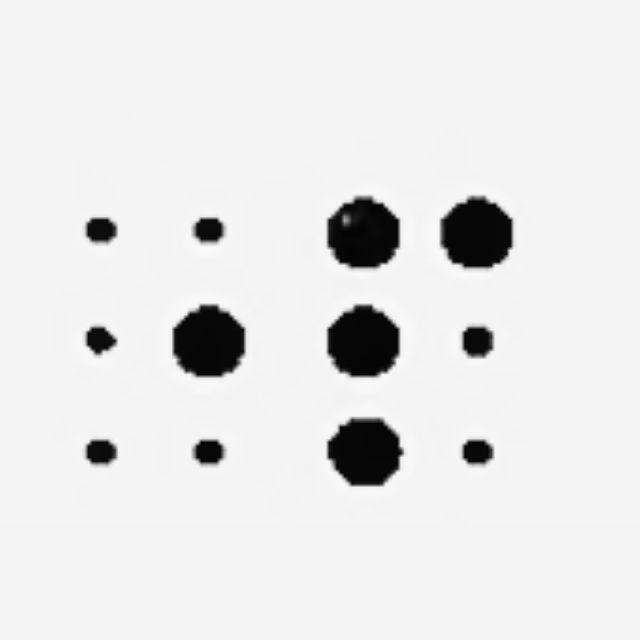dot_5: (67, 193, 247, 494)
patuloy: (325, 195, 511, 487)
